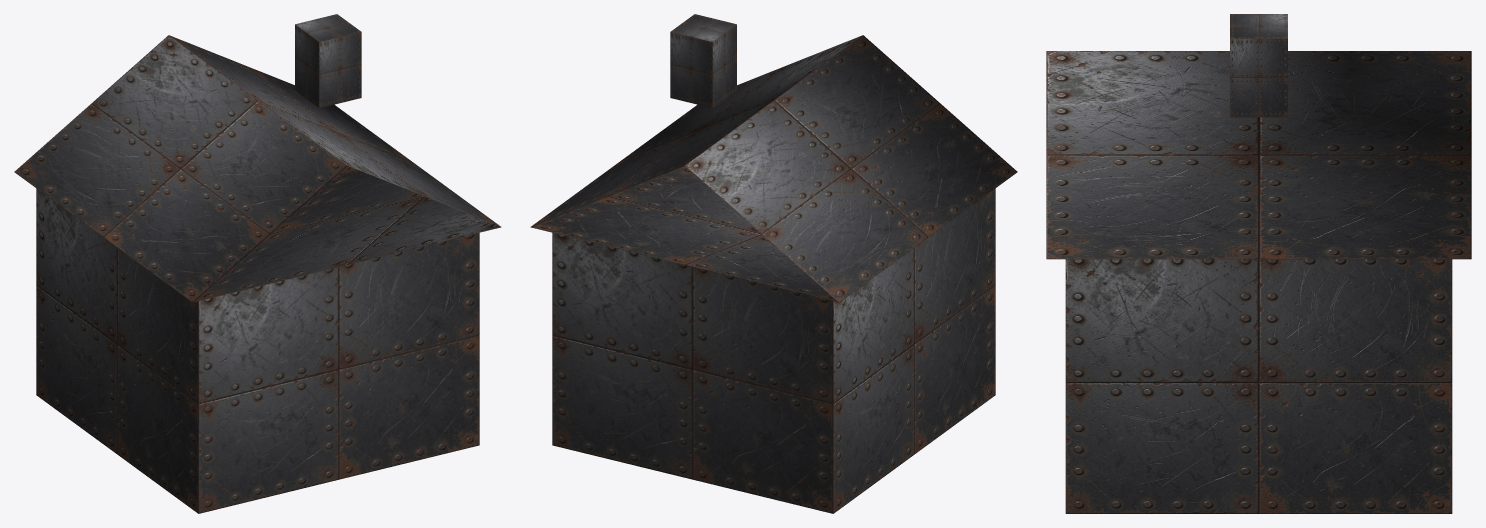
The model's file is powder_mill.obj.
3 views of the same model, side by side, from view 1: azimuth 30°, elevation 25°; view 2: azimuth 150°, elevation 25°; view 3: azimuth 270°, elevation 25° (orthographic). The views are drawn at different scales.
Parts seen in each view (by area): view 1: building; view 2: building; view 3: building.
Boxes of the visible parts, x1,y1,x2,y2 form: building: (14, 14, 501, 513); building: (530, 14, 1017, 513); building: (1046, 14, 1471, 513).
Size of the model in its own units: 2.2 by 2.55 by 2.2.
